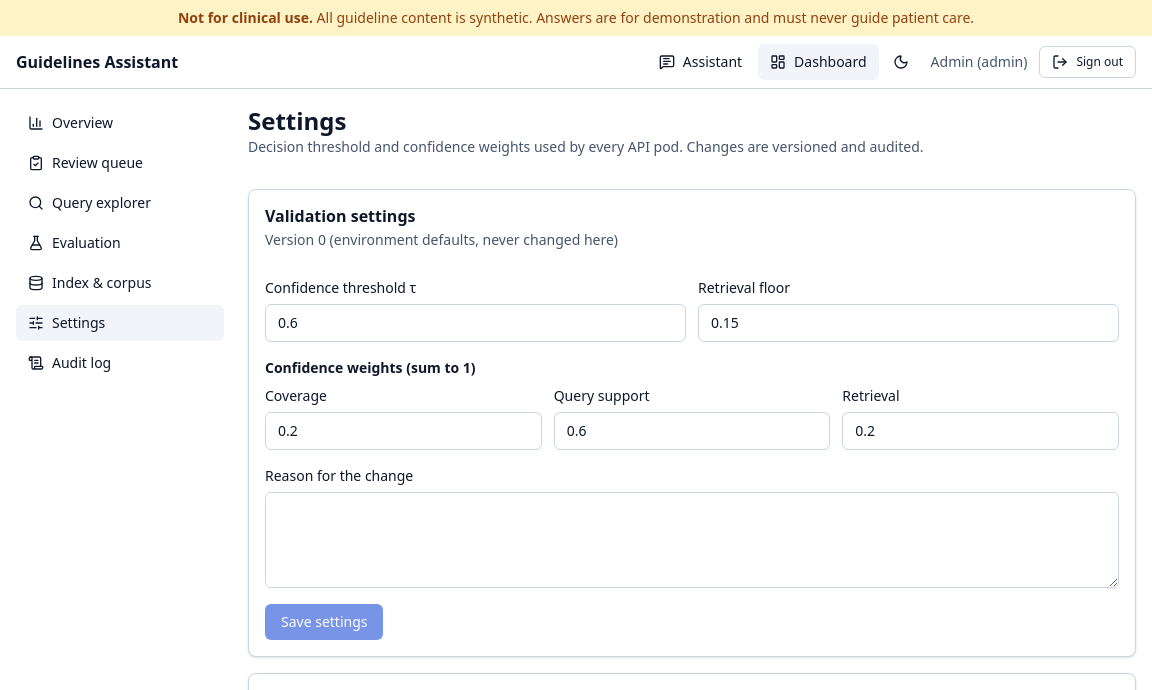
Test: Admin dashboard › settings: a concurrent change is reported
Replace the text in the number field with test id "cfg-threshold" with "0.65" at [476, 323], box [265,304,686,342]
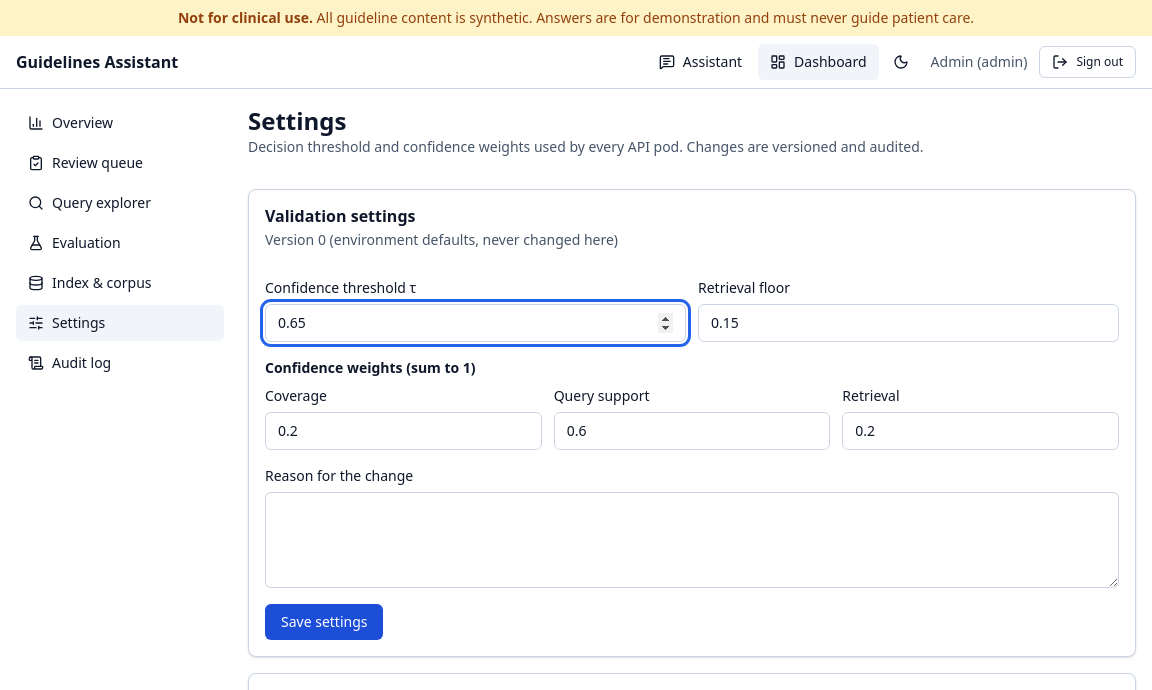
Type "try" into the text box with test id "cfg-comment" at [692, 540], box [265,492,1119,588]
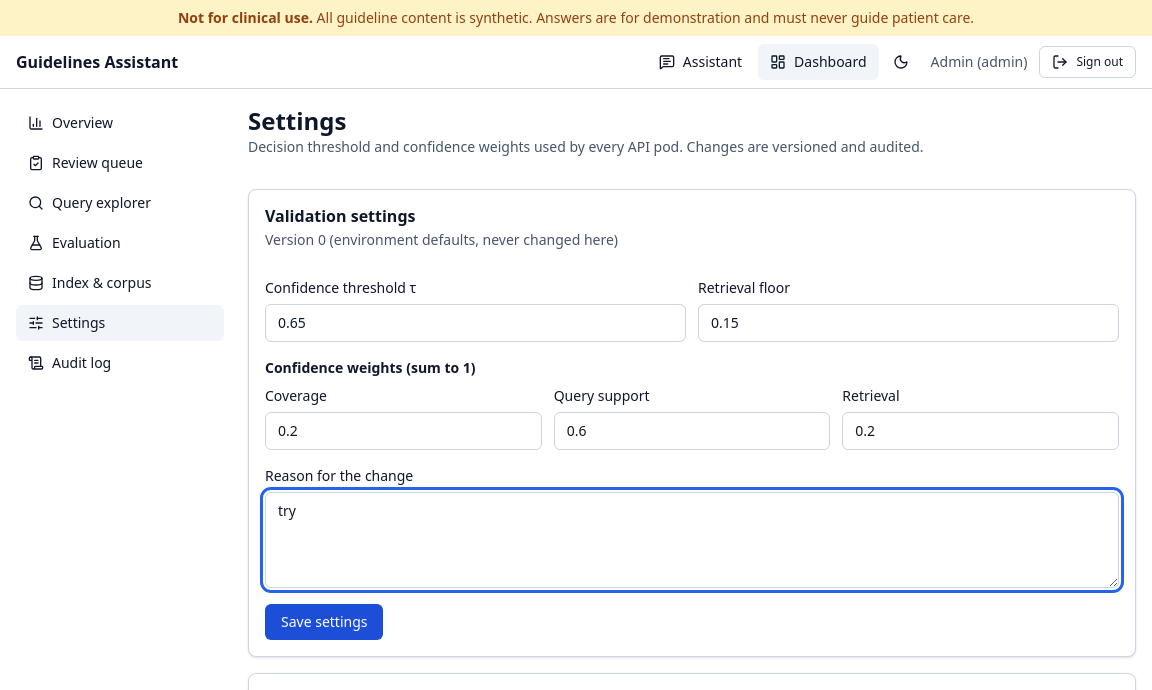
Click the button with test id "config-save" at [324, 622], box [265,604,384,640]
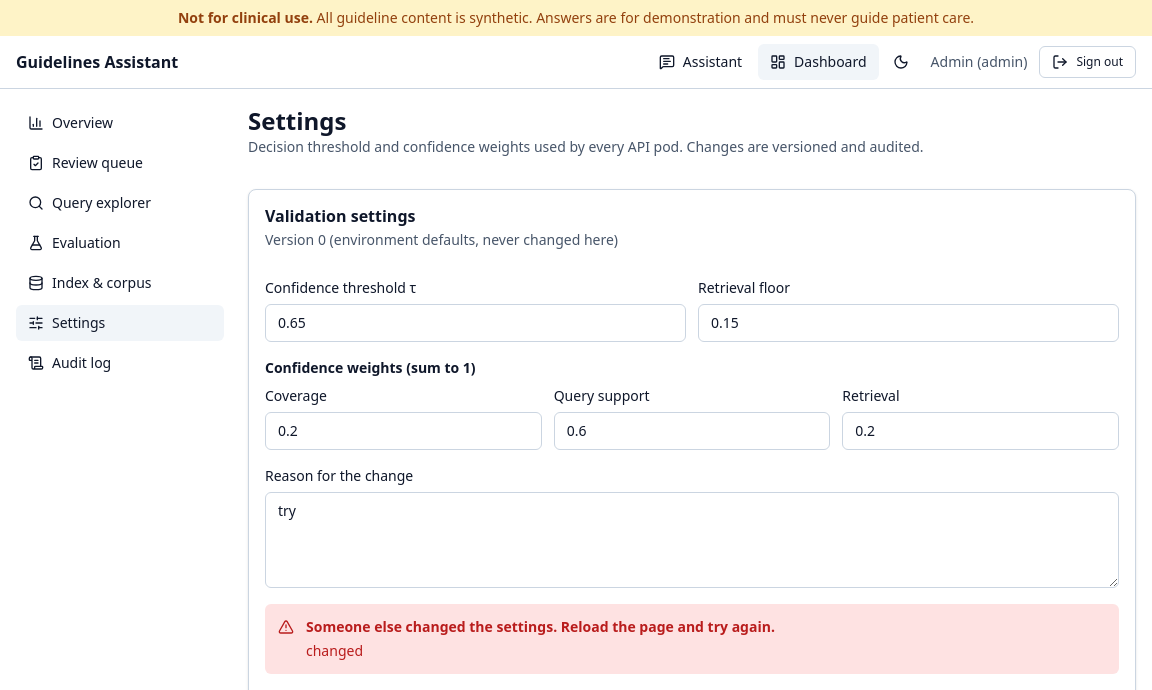
Check: the message with test id "error-alert" shows "Someone else changed", box [306,617,775,636]
